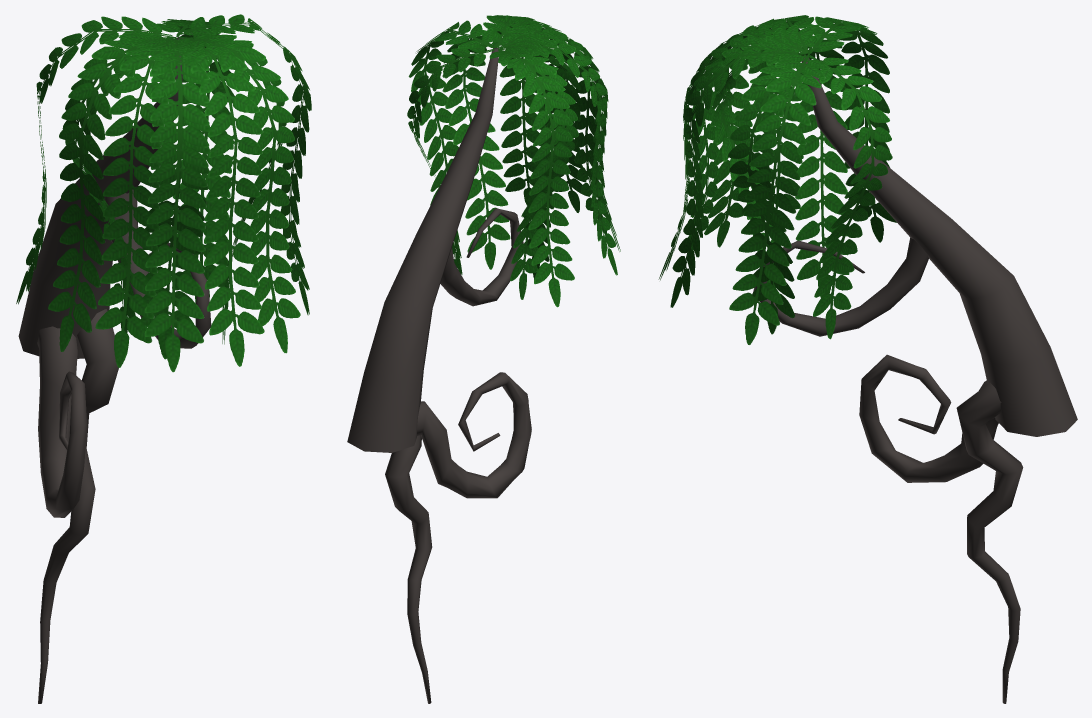
File: Tree2.FBX
3 renders of one model, left to right at view 1: azimuth 30°, elevation 25°; view 2: azimuth 150°, elevation 25°; view 3: azimuth 270°, elevation 25°, orthographic. The views are drawn at different scales.
Parts seen in each view (by area): view 1: Tree2; view 2: Tree2; view 3: Tree2.
Boxes of the visible parts, x1=… form: Tree2: x1=16, y1=14, x2=311, y2=703; Tree2: x1=347, y1=15, x2=620, y2=703; Tree2: x1=658, y1=15, x2=1077, y2=703.
Size of the model in its own units: 7.06 by 19.65 by 11.25.
Materials: 1 (1 with a texture image).
